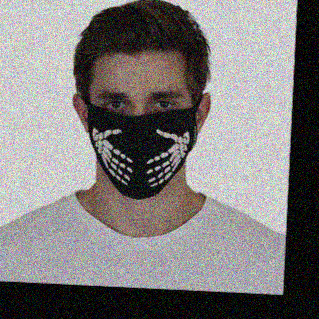with_mask: (85, 79, 197, 199)
